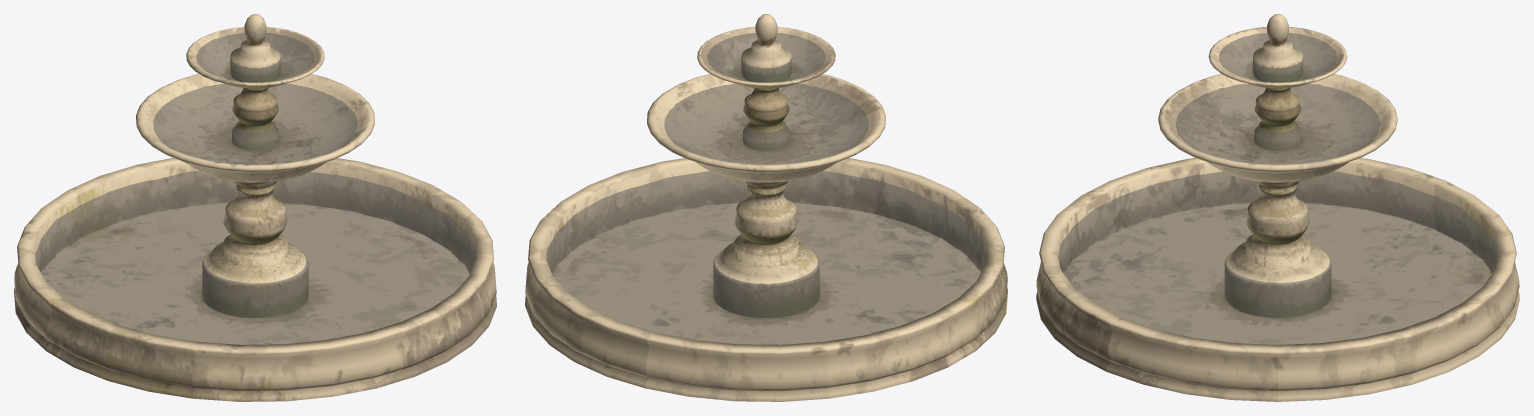
Rendered from fountain.glb.
3 renders of one model, left to right at view 1: azimuth 30°, elevation 25°; view 2: azimuth 150°, elevation 25°; view 3: azimuth 270°, elevation 25°, orthographic.
Parts seen in each view (by area): view 1: Sphere.010, Sphere.001, Sphere.011, Sphere.012; view 2: Sphere.010, Sphere.001, Sphere.011, Sphere.012; view 3: Sphere.010, Sphere.001, Sphere.011, Sphere.012.
Boxes of the visible parts, left/top/right/bottom form: Sphere.010: left=14, top=14, right=496, bottom=401; Sphere.001: left=35, top=171, right=475, bottom=344; Sphere.011: left=153, top=83, right=357, bottom=164; Sphere.012: left=196, top=32, right=314, bottom=82; Sphere.010: left=525, top=14, right=1007, bottom=401; Sphere.001: left=546, top=171, right=986, bottom=344; Sphere.011: left=664, top=83, right=868, bottom=164; Sphere.012: left=707, top=33, right=825, bottom=82; Sphere.010: left=1036, top=14, right=1519, bottom=401; Sphere.001: left=1058, top=171, right=1497, bottom=344; Sphere.011: left=1176, top=83, right=1380, bottom=164; Sphere.012: left=1219, top=33, right=1336, bottom=82.
Bounding box in the file's own units: 4.83 × 3.14 × 4.83.
Materials: 2 (1 with a texture image).
